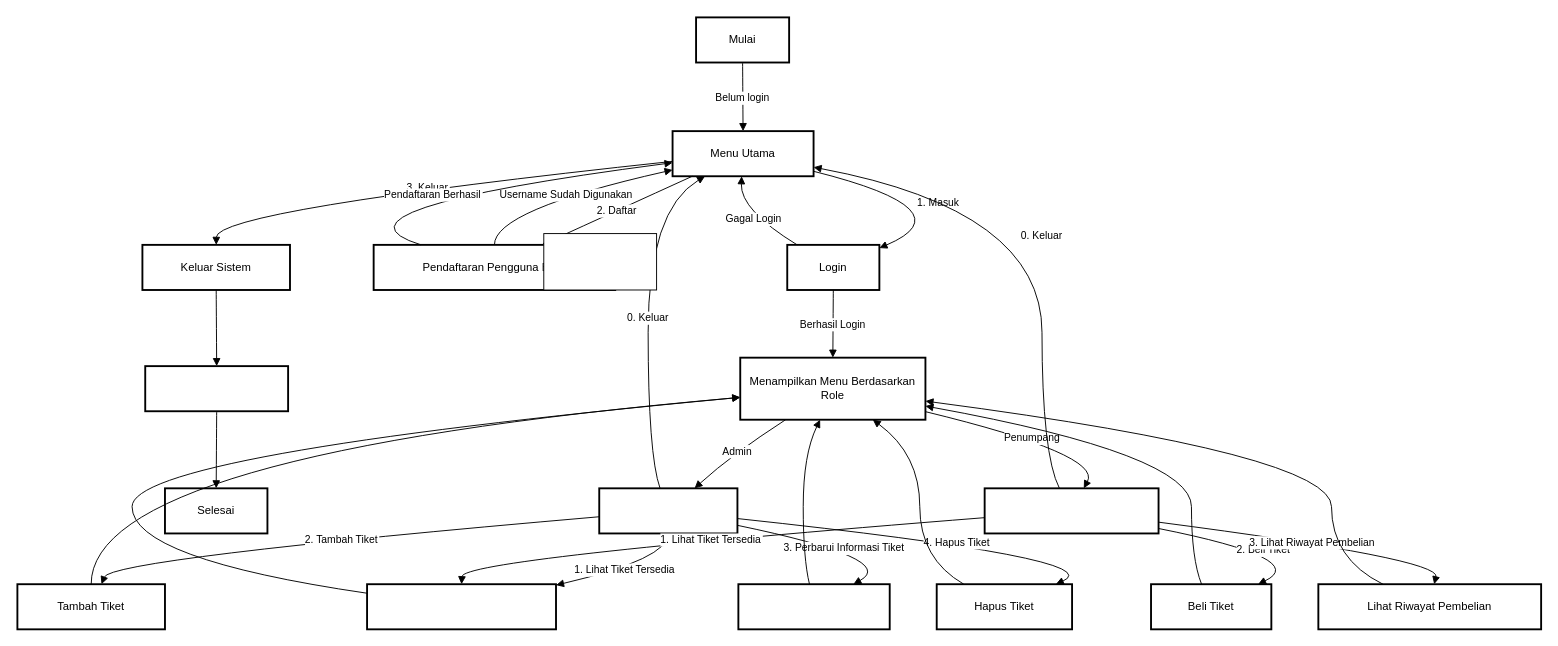
Some shapes in this 1558 by 646 pixel diagram are drawn without their labels. Here are the shapes that lost their labels. From the top down, the box of each, then its label:
(144, 365, 289, 412): Terima Kasih
(598, 487, 738, 534): Menu Admin
(983, 487, 1159, 534): Menu Penumpang
(366, 583, 556, 630): Lihat Tiket Tersedia
(737, 583, 890, 630): Perbarui Tiket
